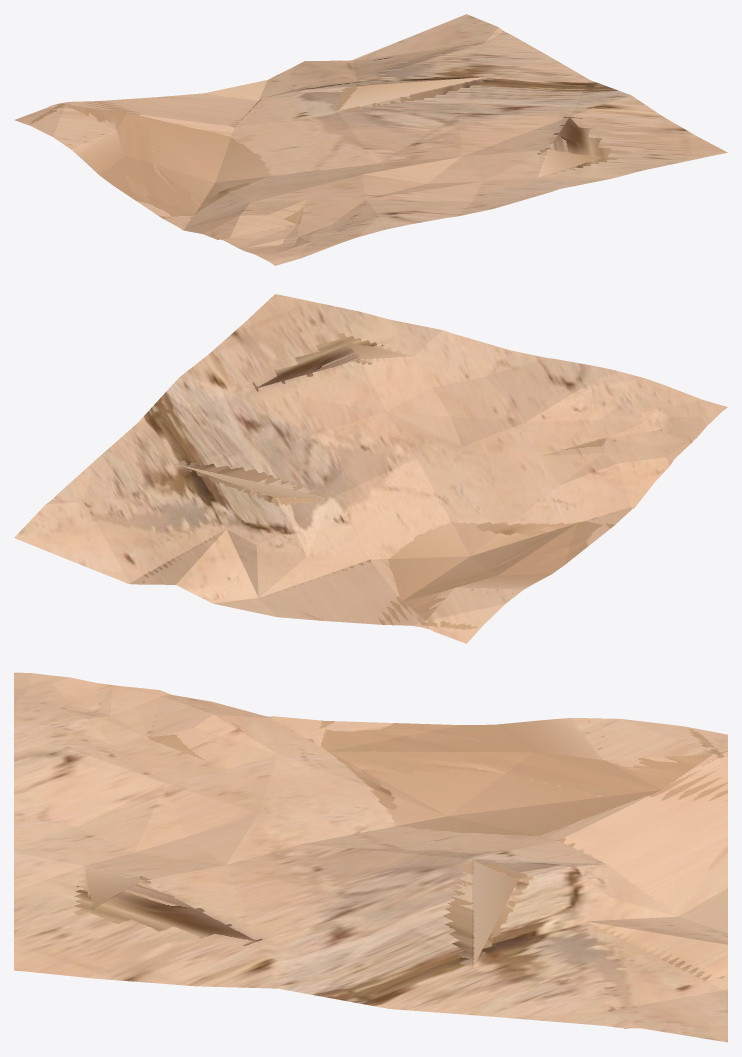
3 views of the same model, one above another, from view 1: azimuth 30°, elevation 25°; view 2: azimuth 150°, elevation 25°; view 3: azimuth 270°, elevation 25° (orthographic). The views are drawn at different scales.
Size of the model in its own units: 1.04 by 0.171 by 1.04.
Materials: 3 (3 with a texture image).
